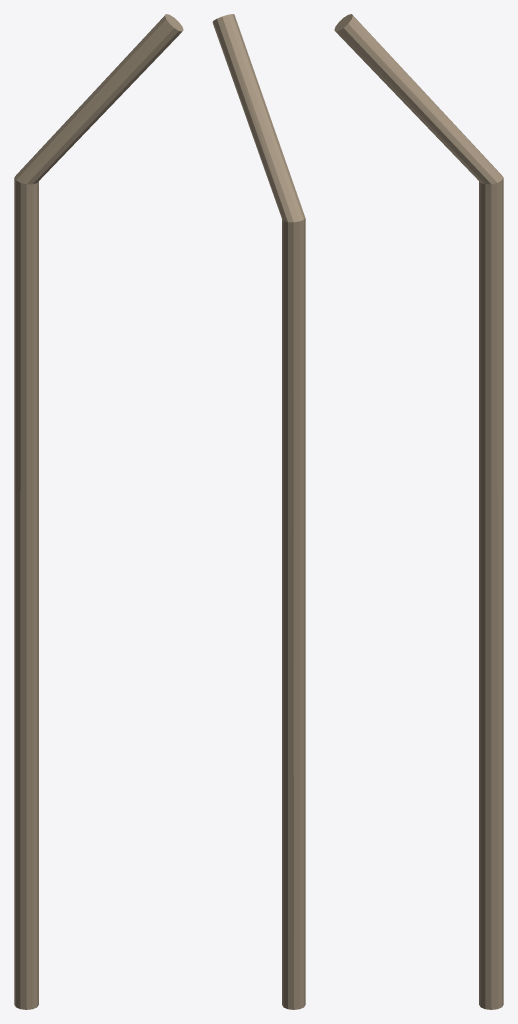
File: stock-car-oval-speedway-catch-fence-post-0c9faa38__16922.glb
3 renders of one model, left to right at view 1: azimuth 90°, elevation 25°; view 2: azimuth 210°, elevation 25°; view 3: azimuth 270°, elevation 25°, orthographic. The views are drawn at different scales.
Visible parts, largest first — view 1: catch-fence-post; view 2: catch-fence-post; view 3: catch-fence-post.
Boxes of the visible parts, x1,y1,x2,y2 form: catch-fence-post: [14, 14, 183, 1009]; catch-fence-post: [212, 14, 305, 1009]; catch-fence-post: [334, 14, 503, 1009].
Size of the model in its own units: 0.1001 by 4.43 by 0.6877.
